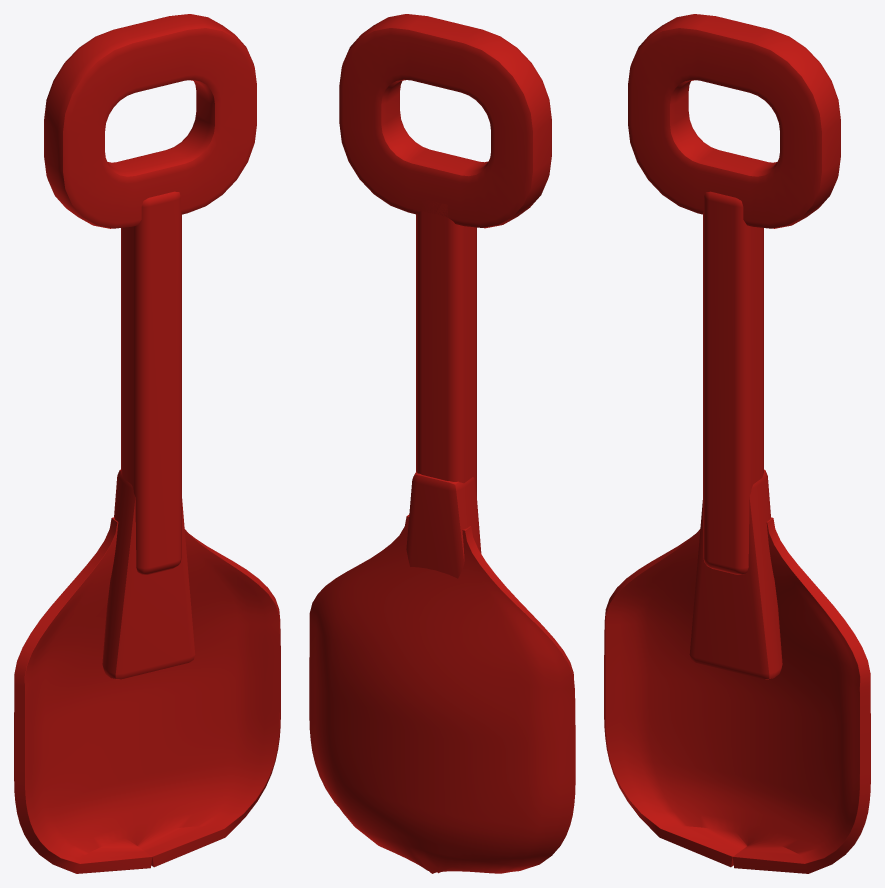
File: prop-spade.glb
3 renders of one model, left to right at view 1: azimuth 30°, elevation 25°; view 2: azimuth 150°, elevation 25°; view 3: azimuth 330°, elevation 25°, orthographic.
Parts seen in each view (by area): view 1: body; view 2: body; view 3: body.
Boxes of the visible parts, bbox=[...] form: body: bbox=[14, 14, 280, 873]; body: bbox=[309, 14, 575, 873]; body: bbox=[604, 14, 870, 873].
Bounding box in the file's own units: 0.0859 × 0.2584 × 0.0209.
